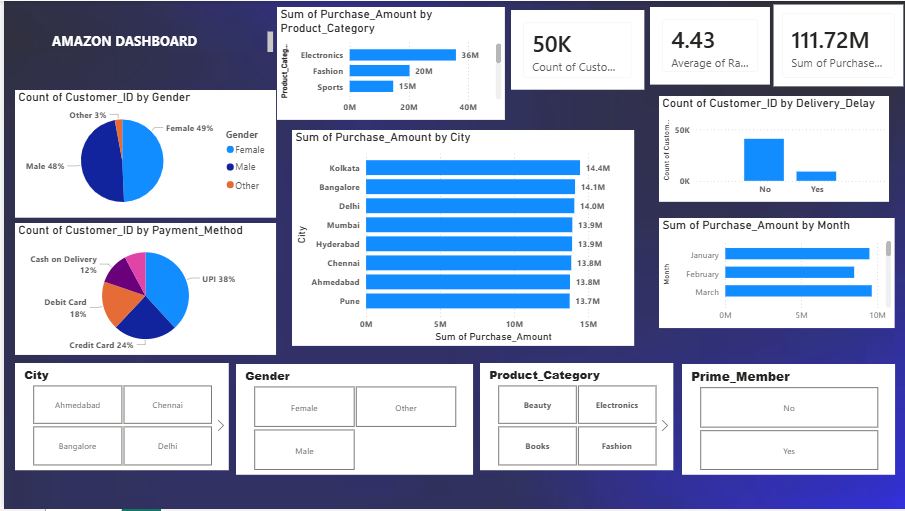

Layout of this report page (visuals, bound fields, positions):
{"tool":"powerbi","page":{"name":"Page 1","canvas":[1280,720],"ordinal":0},"visuals":[{"type":"cardVisual","fields":{"Data":["Sum(cleaned_amazon (1).Purchase_Amount)"]},"box":[1085.4,0,194.9,126.2],"z":0},{"type":"cardVisual","fields":{"Data":["Avg(cleaned_amazon (1).Rating)"]},"box":[915.3,8.2,170.2,109.8],"z":1000},{"type":"cardVisual","fields":{"Data":["CountNonNull(cleaned_amazon (1).Customer_ID)"]},"box":[718.6,12.8,188.5,113.4],"z":2000},{"type":"clusteredBarChart","fields":{"Category":["cleaned_amazon (1).Order_Date.Variation.Date Hierarchy.Month","cleaned_amazon (1).Order_Date.Variation.Date Hierarchy.Day"],"Y":["Sum(cleaned_amazon (1).Purchase_Amount)"]},"box":[928.3,307.6,334.5,155.9],"z":3000},{"type":"clusteredBarChart","fields":{"Category":["cleaned_amazon (1).Product_Category"],"Y":["Sum(cleaned_amazon (1).Purchase_Amount)"]},"box":[386.9,8.5,323.1,160.2],"z":4000},{"type":"pieChart","fields":{"Category":["cleaned_amazon (1).Gender"],"Y":["CountNonNull(cleaned_amazon (1).Customer_ID)"]},"box":[15.6,126.1,369.9,181.4],"z":5000},{"type":"clusteredBarChart","fields":{"Category":["cleaned_amazon (1).City"],"Y":["Sum(cleaned_amazon (1).Purchase_Amount)"]},"box":[408.2,182.8,484.7,306.1],"z":6000},{"type":"pieChart","fields":{"Y":["CountNonNull(cleaned_amazon (1).Customer_ID)"],"Category":["cleaned_amazon (1).Payment_Method"]},"box":[15.6,314.6,369.9,187.1],"z":7000},{"type":"clusteredColumnChart","fields":{"Category":["cleaned_amazon (1).Delivery_Delay"],"Y":["CountNonNull(cleaned_amazon (1).Customer_ID)"]},"box":[928.3,134.6,326,150.2],"z":8000},{"type":"slicer","fields":{"Values":["cleaned_amazon (1).City"]},"box":[15.6,513.1,303.3,151.7],"z":9000},{"type":"slicer","fields":{"Values":["cleaned_amazon (1).Gender"]},"box":[328.8,514.5,335.9,157.3],"z":10000},{"type":"slicer","fields":{"Values":["cleaned_amazon (1).Product_Category"]},"box":[674.6,513.1,273.5,151.7],"z":11000},{"type":"slicer","fields":{"Values":["cleaned_amazon (1).Prime_Member"]},"box":[960.9,514.5,301.9,157.3],"z":12000},{"type":"textbox","box":[61.7,38.4,323.8,45.3],"z":13000}]}

Visuals, with their boxes in screenshot pixels (x1, y1, x2, y2), scaled from the page's 1280x720 canvas onto the 905x511 screenshot:
cardVisual - Sum(cleaned_amazon (1).Purchase_Amount): [767, 0, 904, 90]
cardVisual - Avg(cleaned_amazon (1).Rating): [647, 6, 767, 84]
cardVisual - CountNonNull(cleaned_amazon (1).Customer_ID): [508, 9, 641, 90]
clusteredBarChart - cleaned_amazon (1).Order_Date.Variation.Date Hierarchy.Month x cleaned_amazon (1).Order_Date.Variation.Date Hierarchy.Day: [656, 218, 893, 329]
clusteredBarChart - cleaned_amazon (1).Product_Category x Sum(cleaned_amazon (1).Purchase_Amount): [274, 6, 502, 120]
pieChart - cleaned_amazon (1).Gender x CountNonNull(cleaned_amazon (1).Customer_ID): [11, 89, 273, 218]
clusteredBarChart - cleaned_amazon (1).City x Sum(cleaned_amazon (1).Purchase_Amount): [289, 130, 631, 347]
pieChart - CountNonNull(cleaned_amazon (1).Customer_ID) x cleaned_amazon (1).Payment_Method: [11, 223, 273, 356]
clusteredColumnChart - cleaned_amazon (1).Delivery_Delay x CountNonNull(cleaned_amazon (1).Customer_ID): [656, 96, 887, 202]
slicer - cleaned_amazon (1).City: [11, 364, 225, 472]
slicer - cleaned_amazon (1).Gender: [232, 365, 470, 477]
slicer - cleaned_amazon (1).Product_Category: [477, 364, 670, 472]
slicer - cleaned_amazon (1).Prime_Member: [679, 365, 893, 477]
textbox: [44, 27, 273, 59]
